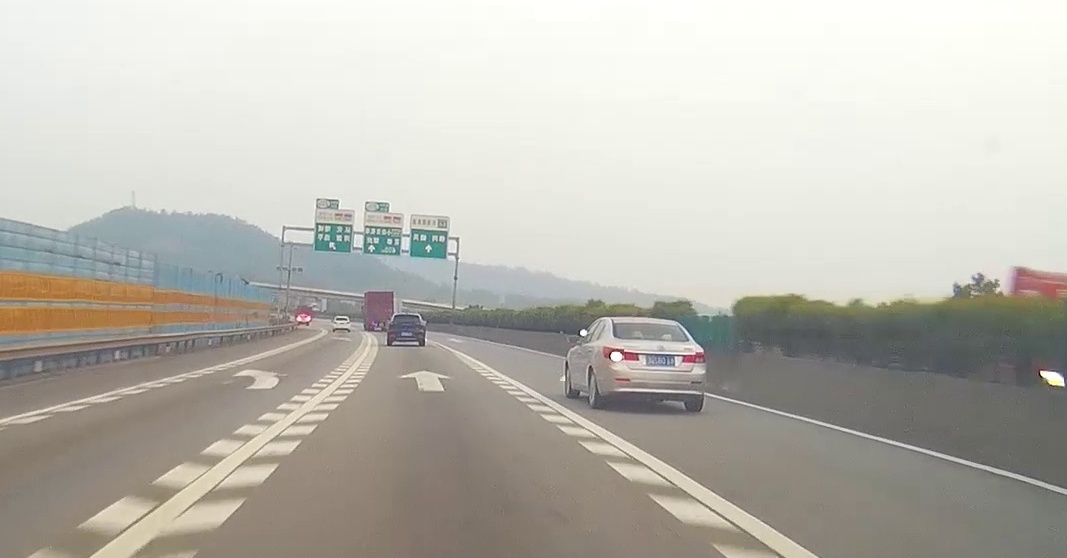L_light: (603, 347, 639, 362), (389, 324, 396, 329)
R_light: (682, 351, 706, 364), (416, 324, 424, 329)
T_light: (639, 322, 656, 327), (403, 315, 411, 317)
day-left: (602, 316, 706, 411)
day-no: (387, 313, 425, 346)
